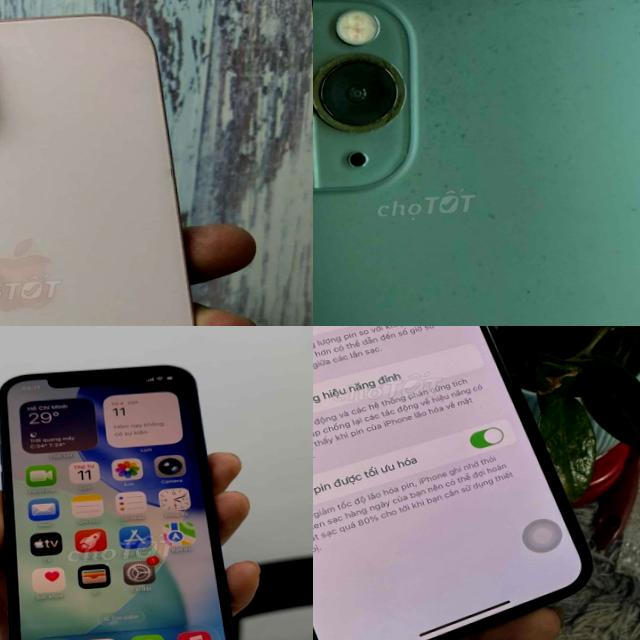scratch: (395, 0, 640, 140), (313, 0, 399, 187), (480, 187, 508, 239), (445, 272, 476, 310), (521, 280, 539, 304), (167, 164, 176, 177)
